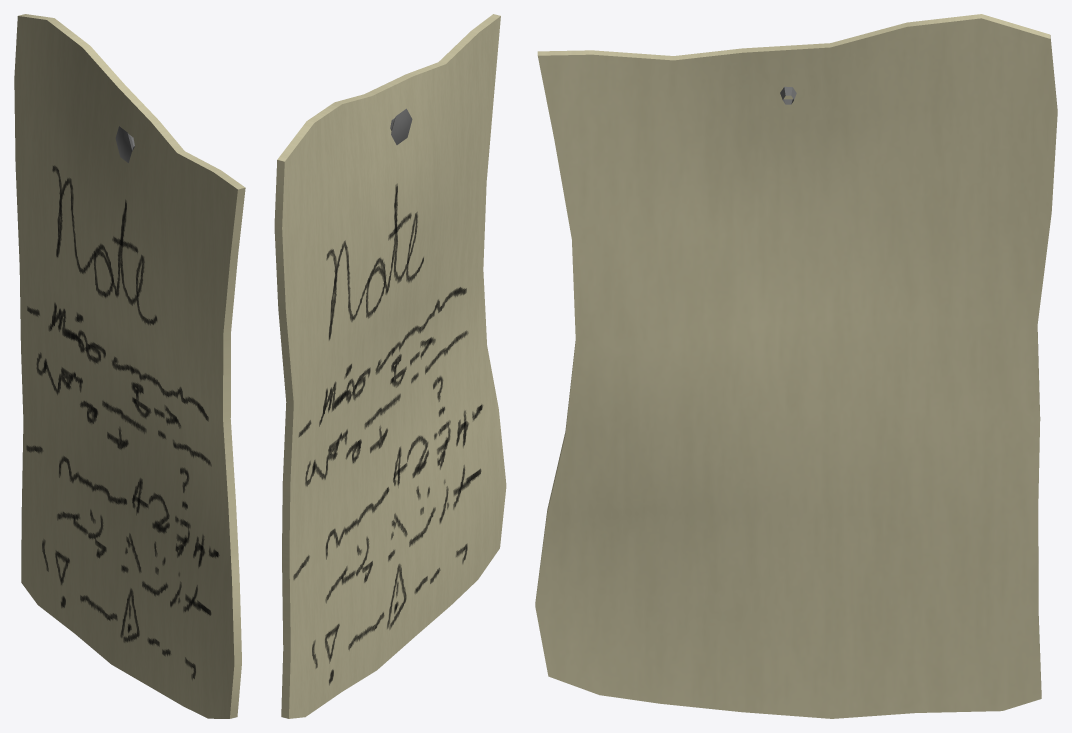
Rendered from Note.fbx.
3 renders of one model, left to right at view 1: azimuth 30°, elevation 25°; view 2: azimuth 150°, elevation 25°; view 3: azimuth 270°, elevation 25°, orthographic. The views are drawn at different scales.
Parts seen in each view (by area): view 1: Note; view 2: Note; view 3: Note.
Part boxes in pixels (left/top/right/bottom): Note: left=14, top=14, right=245, bottom=718; Note: left=274, top=14, right=506, bottom=718; Note: left=535, top=14, right=1057, bottom=718.
Size of the model in its own units: 0.0336 by 0.6452 by 0.4361.
